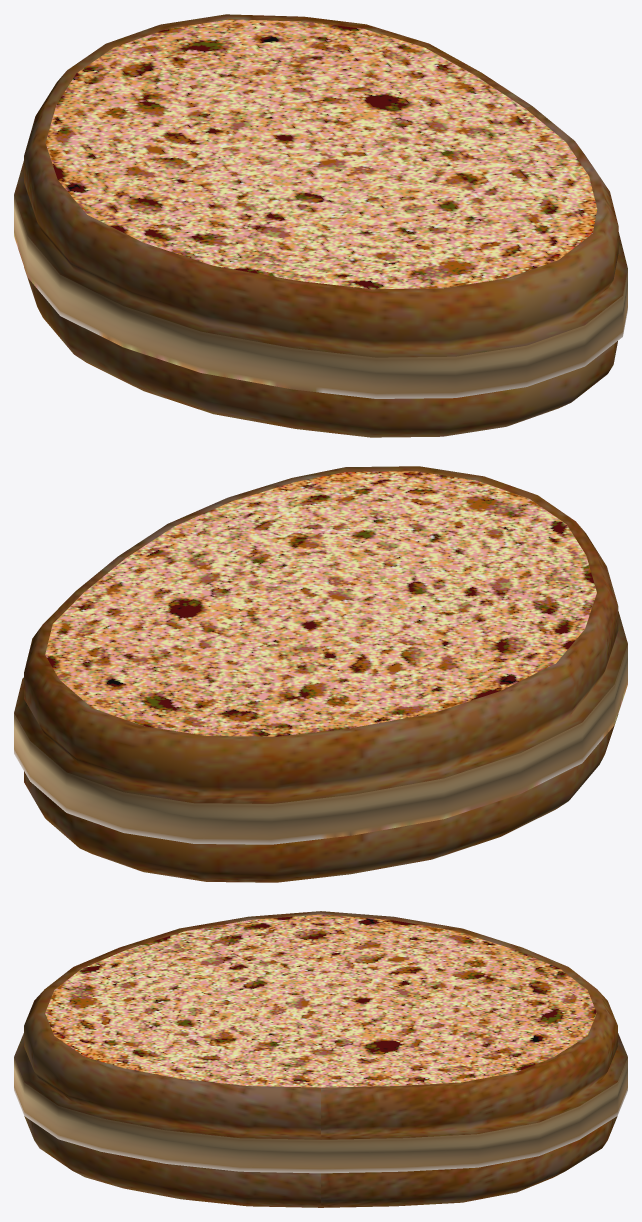
Rendered from VFX_SandwichSourdough.fbx.
3 views of the same model, one above another, from view 1: azimuth 30°, elevation 25°; view 2: azimuth 150°, elevation 25°; view 3: azimuth 270°, elevation 25° (orthographic). The views are drawn at different scales.
Visible parts, largest first — view 1: Sourdough Sandwich; view 2: Sourdough Sandwich; view 3: Sourdough Sandwich.
Part boxes in pixels (x1=…): Sourdough Sandwich: x1=14, y1=14, x2=627, y2=437; Sourdough Sandwich: x1=14, y1=466, x2=627, y2=882; Sourdough Sandwich: x1=14, y1=911, x2=627, y2=1207.
Size of the model in its own units: 0.1182 by 0.0352 by 0.1592.
